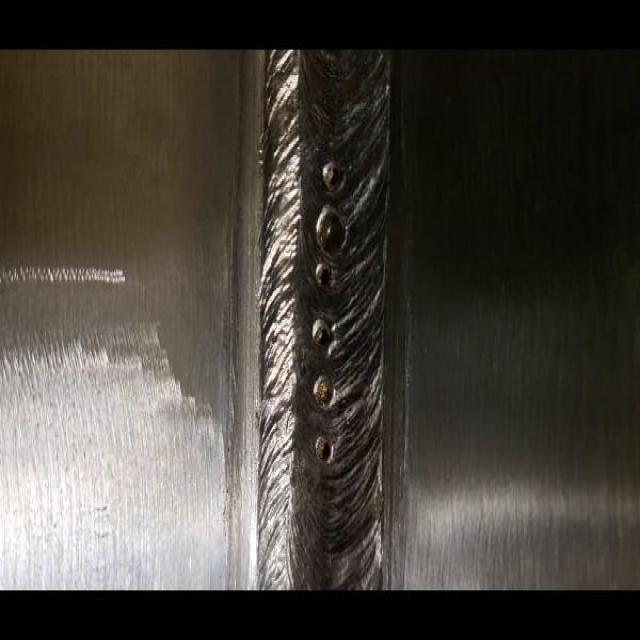Welding Line: (266, 49, 385, 588)
Workpiece: (1, 48, 640, 586)
porosity: (310, 156, 346, 463)
